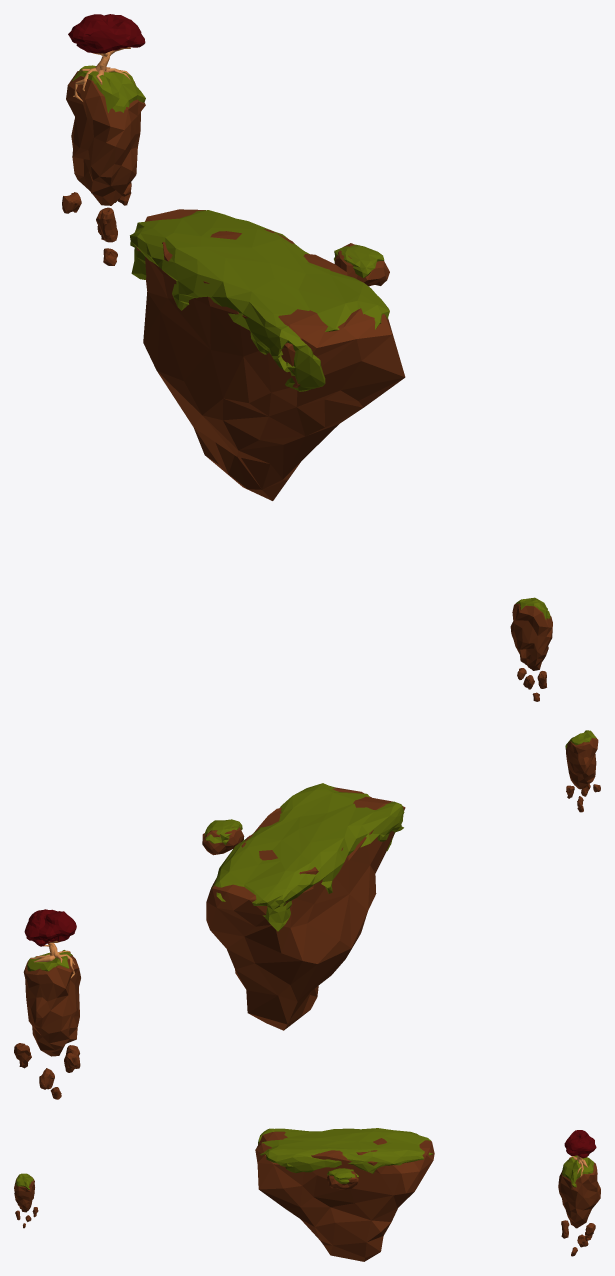
The model's file is Due_Isola1.fbx.
The picture shows the model from 3 angles, top to bottom: view 1: azimuth 30°, elevation 25°; view 2: azimuth 150°, elevation 25°; view 3: azimuth 270°, elevation 25°; orthographic projection. The views are drawn at different scales.
Parts seen in each view (by area): view 1: Plane.026, Plane.028, Sphere.157, Mball.012, Sphere.084, Sphere.158, Sphere.145; view 2: Plane.026, Plane.028, Sphere.157, Mball.012, Sphere.084, Sphere.146, Sphere.145; view 3: Plane.026, Plane.028, Sphere.157, Mball.012, Sphere.158, Sphere.084, Sphere.145, Sphere.146, Sphere.085.
Boxes of the visible parts, left/top/right/bottom form: Plane.026: left=136, top=209, right=405, bottom=500; Plane.028: left=130, top=210, right=389, bottom=391; Sphere.157: left=66, top=71, right=145, bottom=205; Mball.012: left=68, top=14, right=145, bottom=53; Sphere.084: left=510, top=603, right=552, bottom=670; Sphere.158: left=72, top=65, right=145, bottom=112; Sphere.145: left=334, top=244, right=384, bottom=277; Plane.026: left=206, top=787, right=405, bottom=1030; Plane.028: left=211, top=783, right=404, bottom=931; Sphere.157: left=23, top=955, right=80, bottom=1056; Mball.012: left=24, top=909, right=76, bottom=946; Sphere.084: left=565, top=732, right=598, bottom=789; Sphere.146: left=202, top=826, right=244, bottom=855; Sphere.145: left=204, top=819, right=242, bottom=844; Plane.026: left=255, top=1131, right=434, bottom=1261; Plane.028: left=258, top=1128, right=432, bottom=1173; Sphere.157: left=558, top=1162, right=600, bottom=1228; Mball.012: left=564, top=1130, right=596, bottom=1158; Sphere.158: left=562, top=1155, right=594, bottom=1187; Sphere.084: left=14, top=1175, right=34, bottom=1212; Sphere.145: left=327, top=1168, right=358, bottom=1183; Sphere.146: left=327, top=1168, right=358, bottom=1189; Sphere.085: left=15, top=1173, right=33, bottom=1189.
Bounding box in the file's own units: 221 × 339 × 1227.
